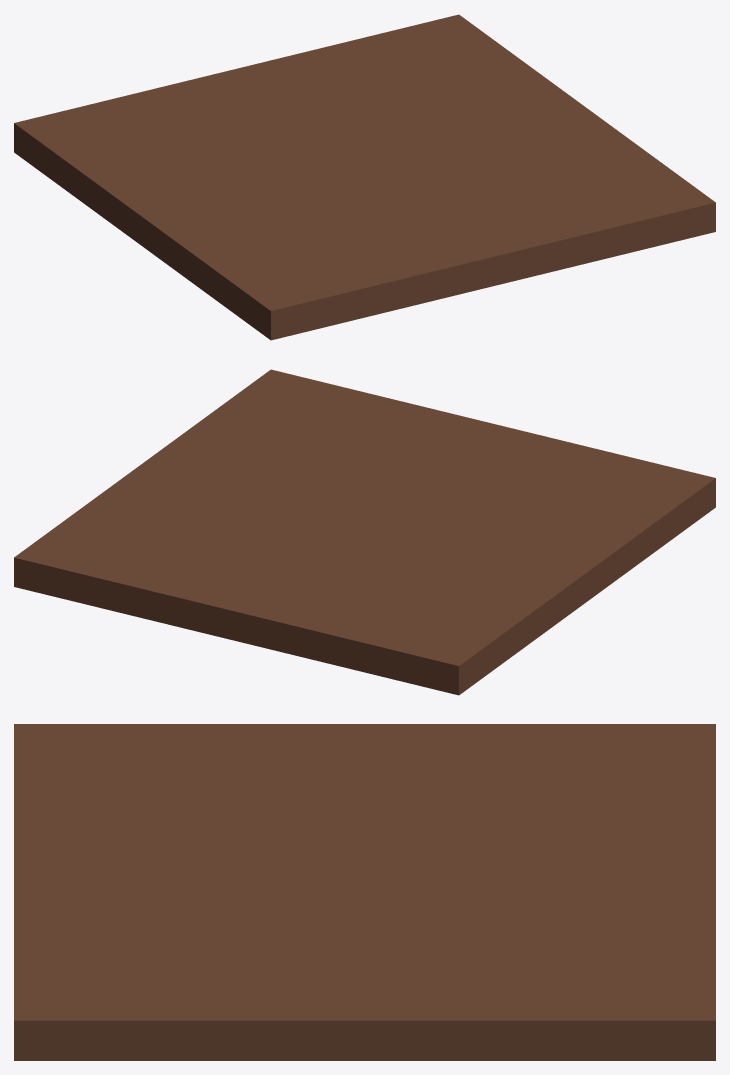
File: CaveTop.fbx
The picture shows the model from 3 angles, top to bottom: view 1: azimuth 30°, elevation 25°; view 2: azimuth 150°, elevation 25°; view 3: azimuth 270°, elevation 25°; orthographic projection. The views are drawn at different scales.
Parts seen in each view (by area): view 1: CaveTop; view 2: CaveTop; view 3: CaveTop.
Boxes of the visible parts, x1=… form: CaveTop: x1=14, y1=14, x2=715, y2=340; CaveTop: x1=14, y1=369, x2=715, y2=695; CaveTop: x1=14, y1=724, x2=715, y2=1060.
Bounding box in the file's own units: 500 × 38.44 × 500.
1 material, 1 textured.
